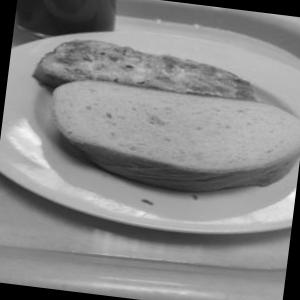bread: (22, 72, 300, 228)
cheese_sandwich: (28, 16, 276, 130)
